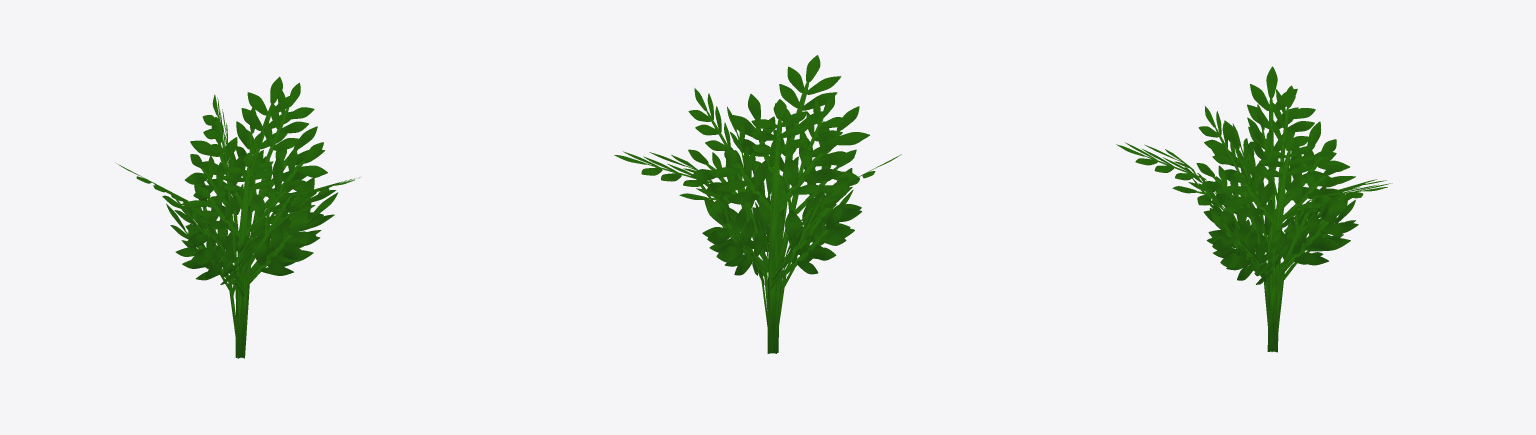
File: CarrotPlant03.fbx
The picture shows the model from 3 angles, left to right: view 1: azimuth 30°, elevation 25°; view 2: azimuth 150°, elevation 25°; view 3: azimuth 270°, elevation 25°; orthographic projection. The views are drawn at different scales.
Parts seen in each view (by area): view 1: CarrotPlant03_LOD0; view 2: CarrotPlant03_LOD0; view 3: CarrotPlant03_LOD0.
Boxes of the visible parts, x1,y1,x2,y2 form: CarrotPlant03_LOD0: [116, 76, 360, 358]; CarrotPlant03_LOD0: [614, 55, 901, 353]; CarrotPlant03_LOD0: [1116, 66, 1392, 352].
Size of what is drawn, in the model's own units: 97.88 by 65.92 by 111.
